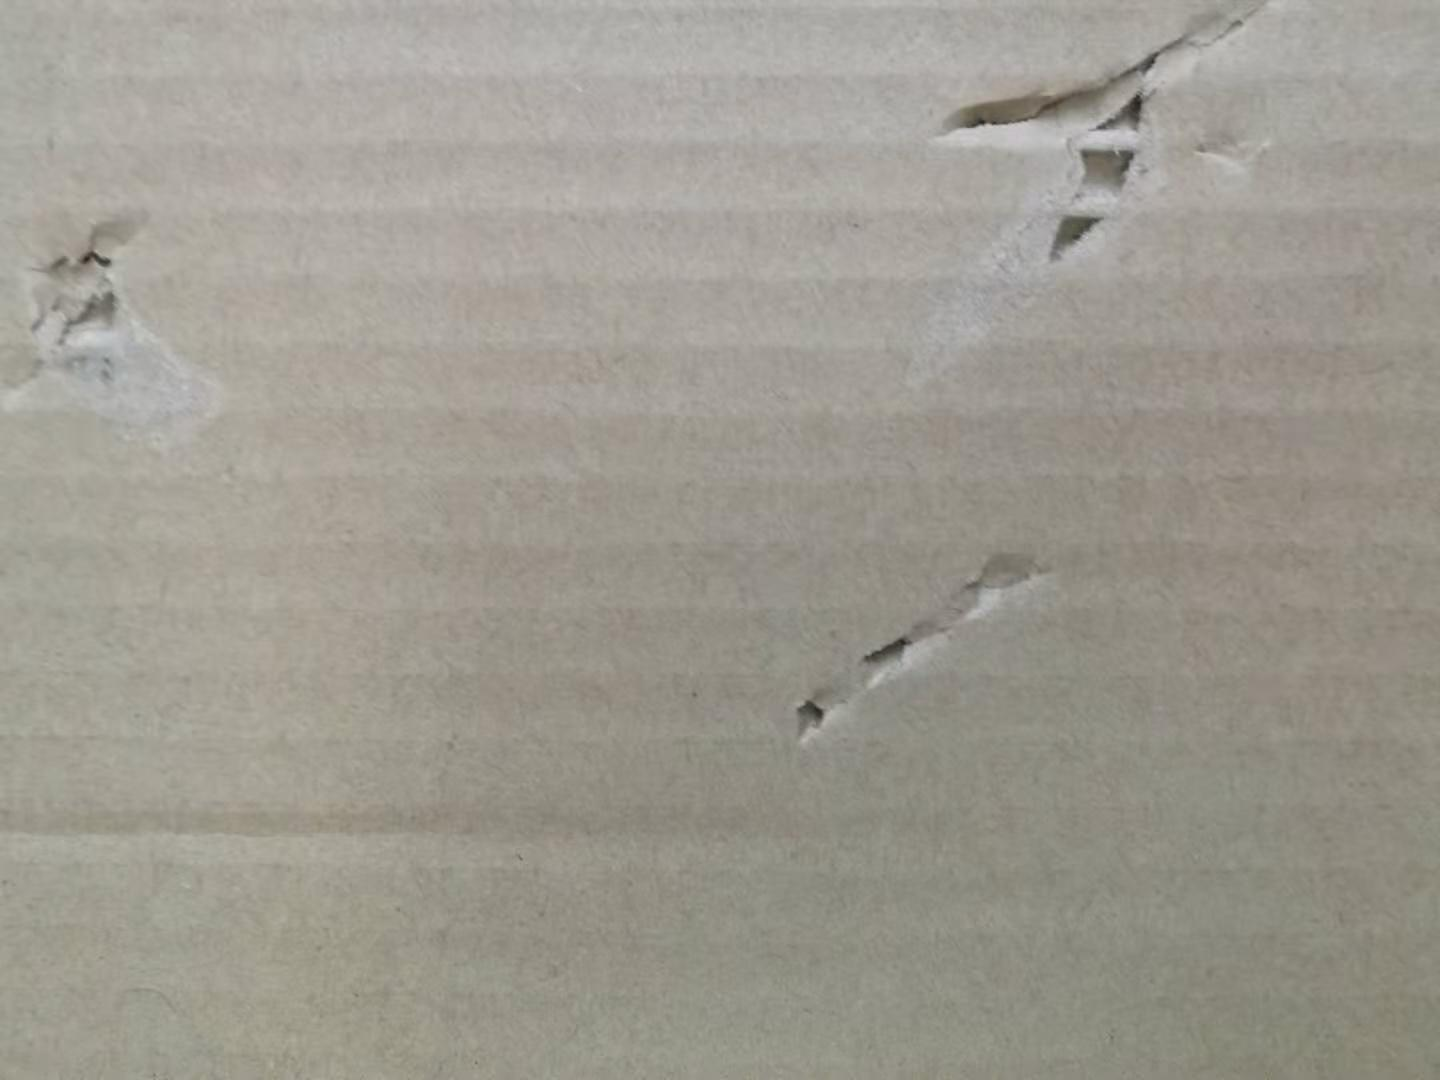defect: (852, 1, 1322, 406), (763, 508, 1093, 773), (2, 186, 248, 478)
